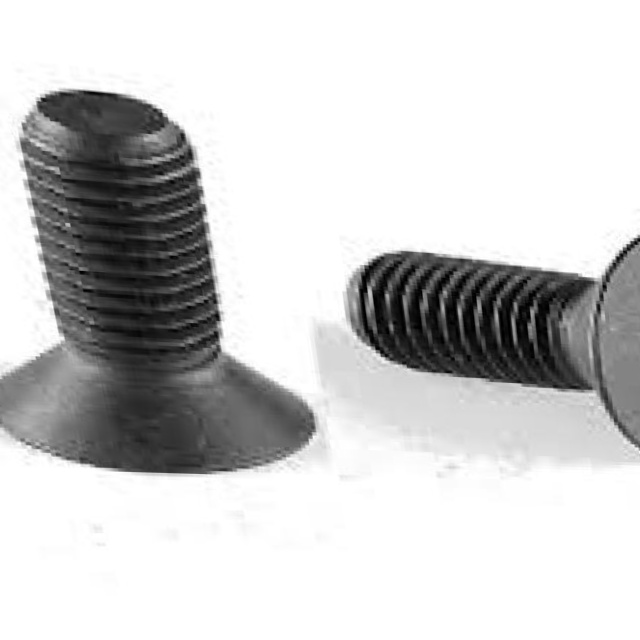allen: (585, 216, 640, 463)
